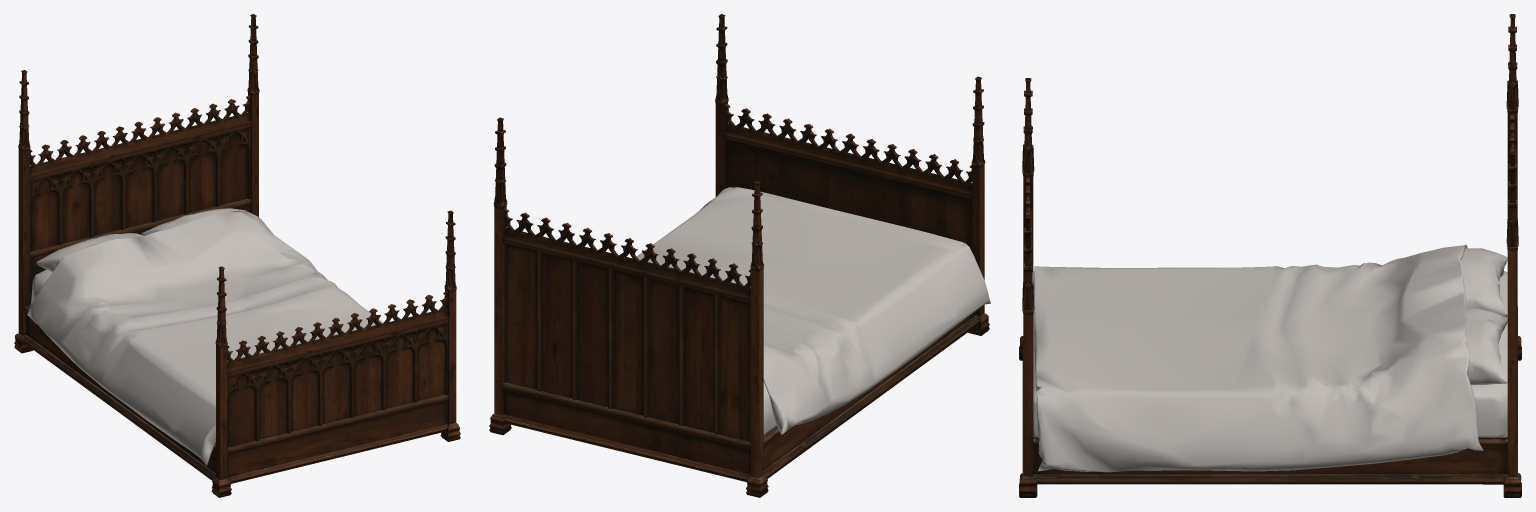
File: GothicBed_01.glb
3 views of the same model, side by side, from view 1: azimuth 30°, elevation 25°; view 2: azimuth 150°, elevation 25°; view 3: azimuth 270°, elevation 25° (orthographic). The views are drawn at different scales.
Visible parts, largest first — view 1: GothicBed_01; view 2: GothicBed_01; view 3: GothicBed_01.
Part boxes in pixels (x1=…): GothicBed_01: x1=14, y1=14, x2=460, y2=497; GothicBed_01: x1=489, y1=14, x2=990, y2=497; GothicBed_01: x1=1019, y1=14, x2=1521, y2=497.
Bounding box in the file's own units: 1.49 × 1.53 × 2.04.
1 material, 1 textured.
